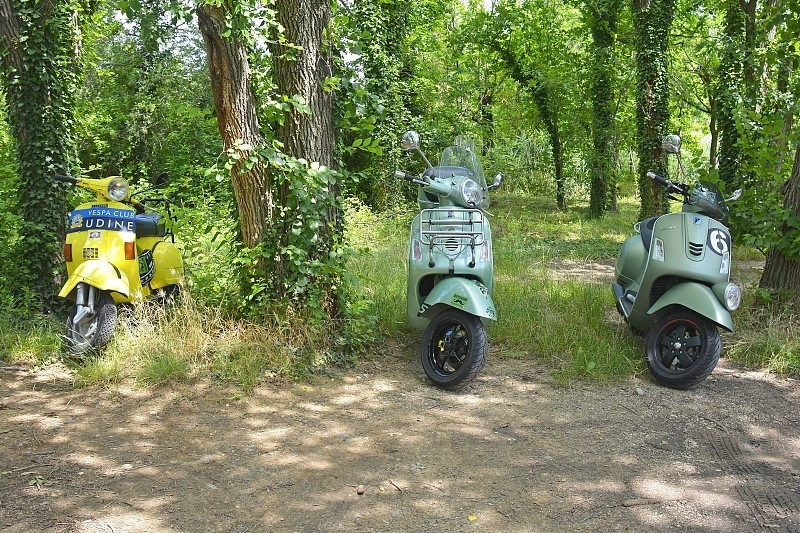non-vehicle: (610, 140, 744, 393), (399, 129, 500, 396), (52, 167, 189, 353)
